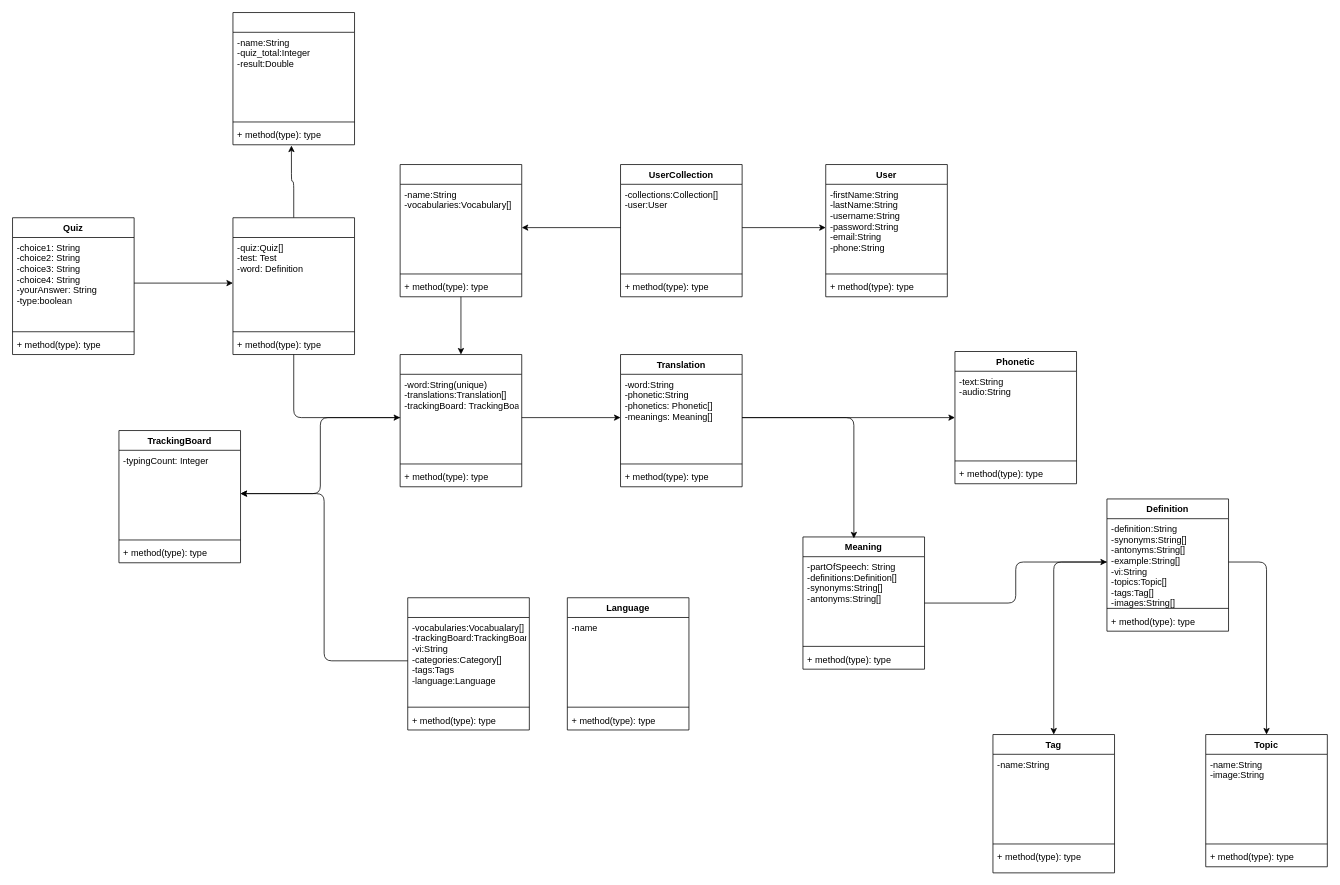
Image size: 1340x885. Some labels were removed from this diagram. The box of each missing label's shape, as (x1, y1, x2, y2) in pixels:
Collection: (399, 164, 522, 297)
Test: (232, 12, 355, 145)
TestResult: (232, 217, 355, 355)
Vocabulary: (399, 354, 522, 487)
VocabularyExtension: (407, 597, 529, 730)
